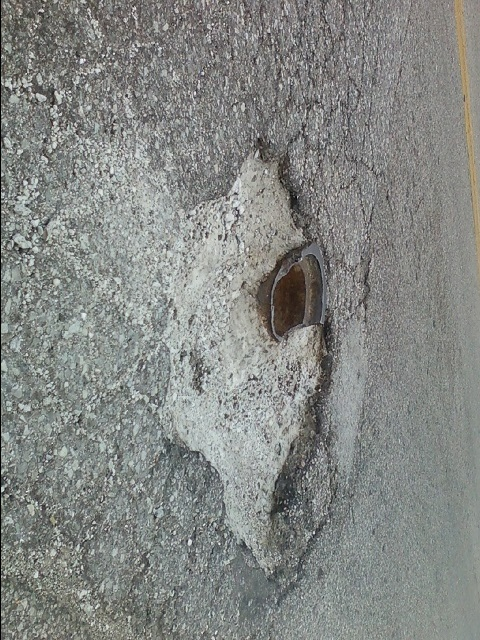pothole: (149, 136, 327, 581)
